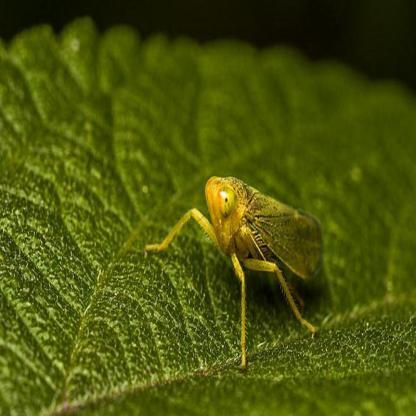green-leafhopper: (144, 172, 327, 360)
